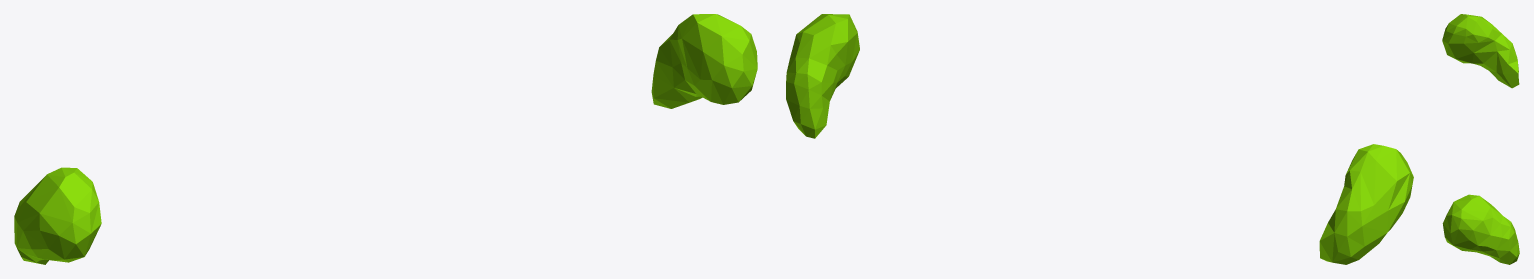
The model's file is 131-BLD-basolateral amygdaloid nucleus, dorsal part-('0.6118', '1.0000', '0.0000').obj.
3 views of the same model, side by side, from view 1: azimuth 30°, elevation 25°; view 2: azimuth 150°, elevation 25°; view 3: azimuth 270°, elevation 25° (orthographic). The views are drawn at different scales.
Size of the model in its own units: 146 by 22.55 by 23.51.
